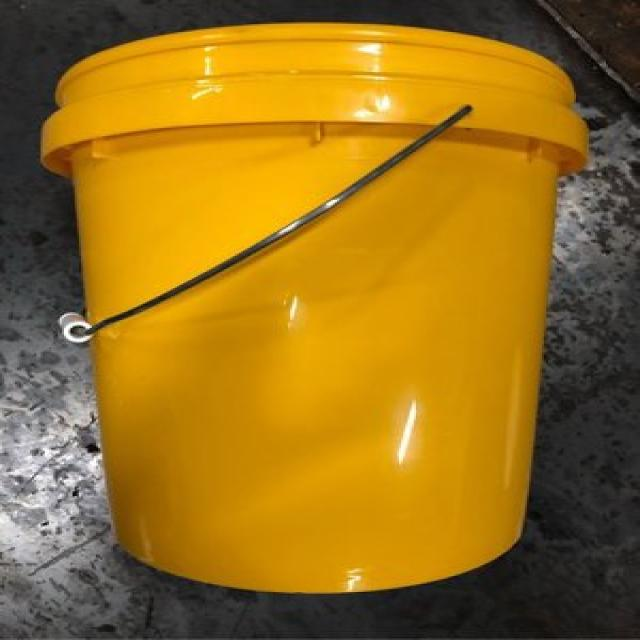plastic: (35, 18, 561, 596)
